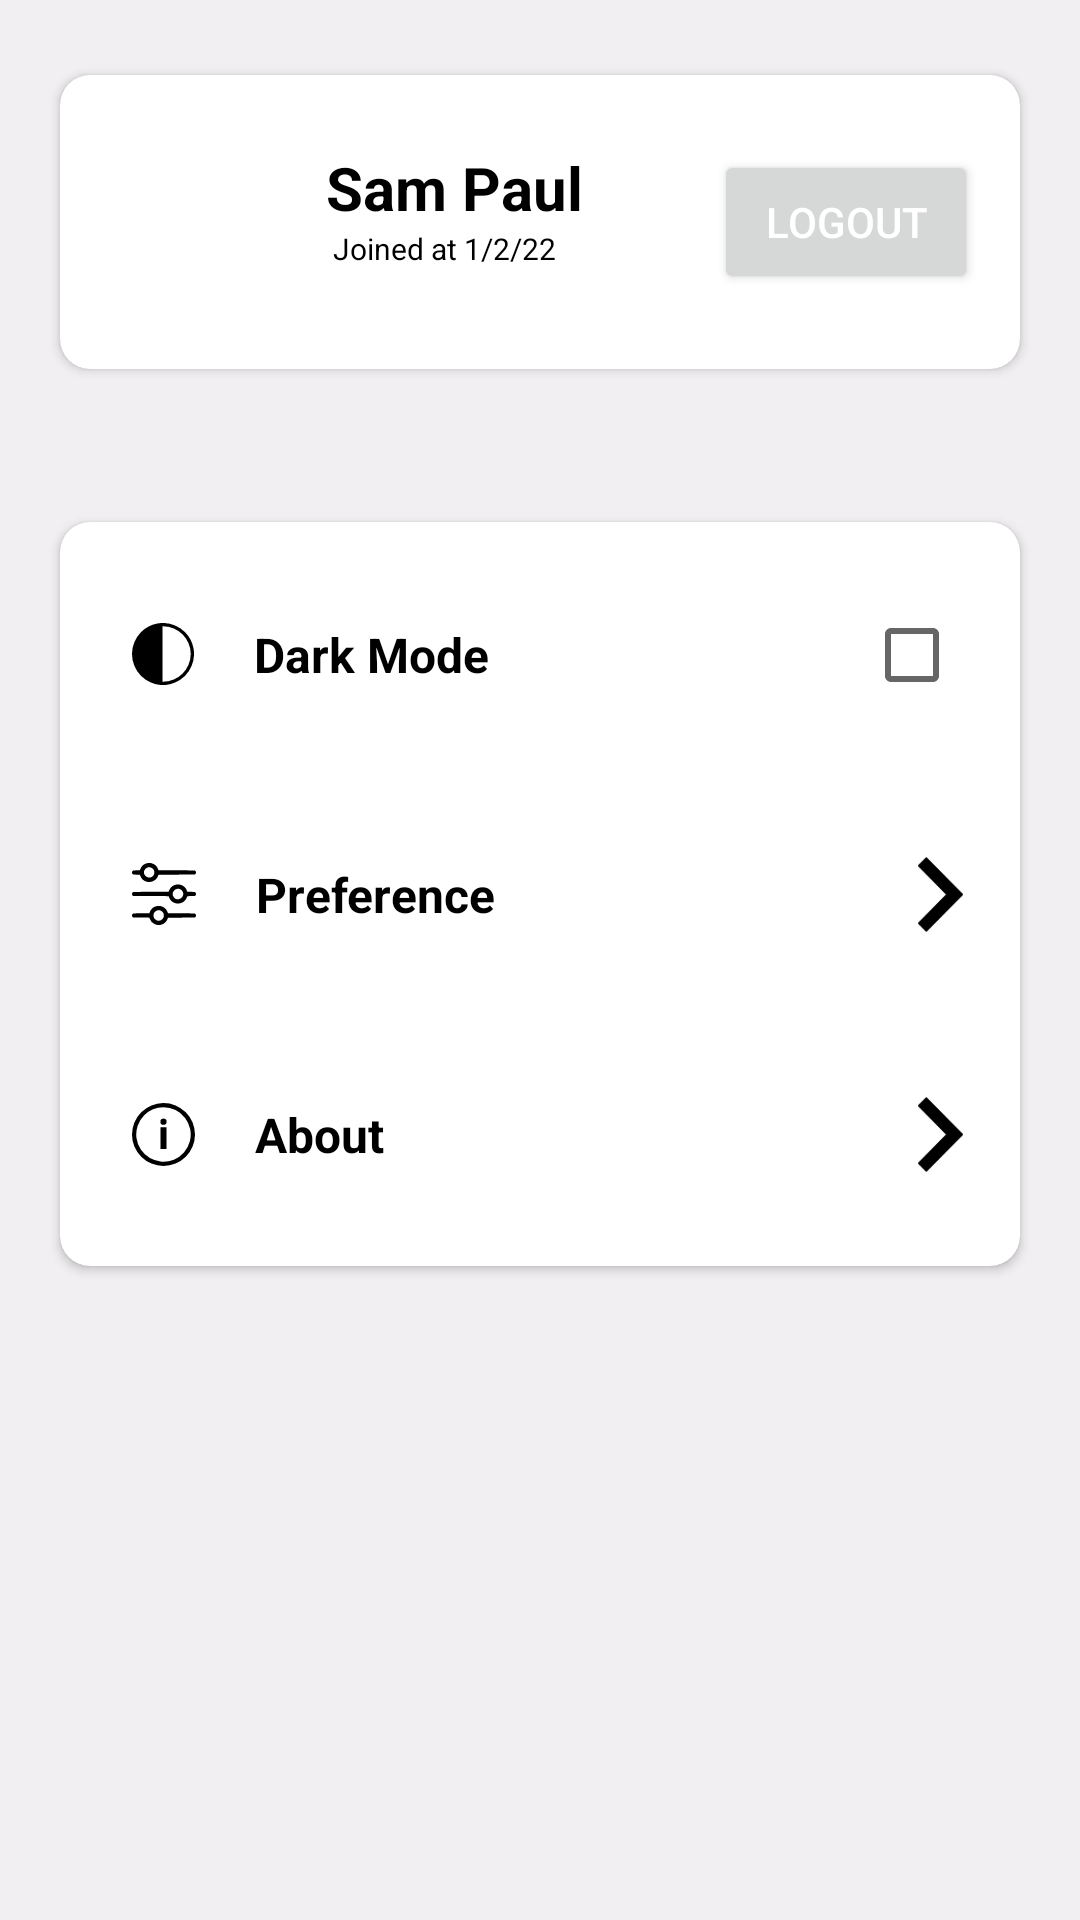

Screen size 1080 × 1920. Icon name, then its box in pixels as (x1, y1, x2, y2):
arrow right: (918, 857, 963, 932), (918, 1097, 963, 1172)
